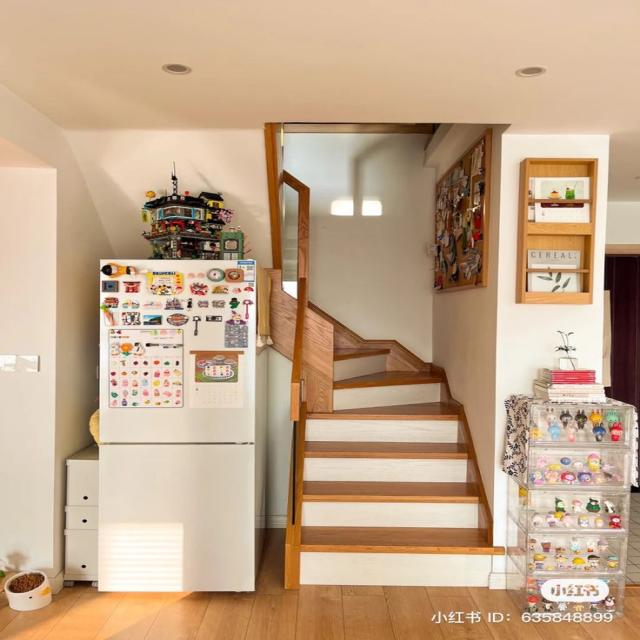obstacle: (95, 258, 258, 592), (502, 395, 638, 620), (515, 157, 598, 304)
